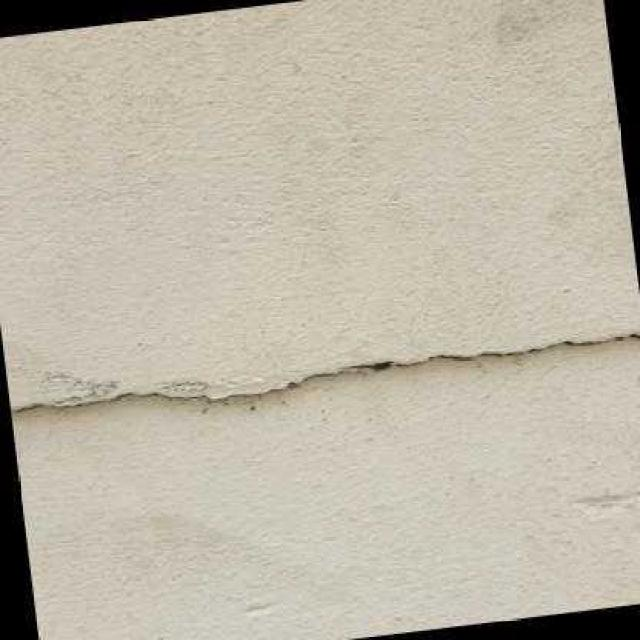D00: (8, 334, 640, 415)
